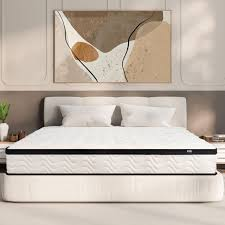bed-matress: (6, 124, 217, 175)
